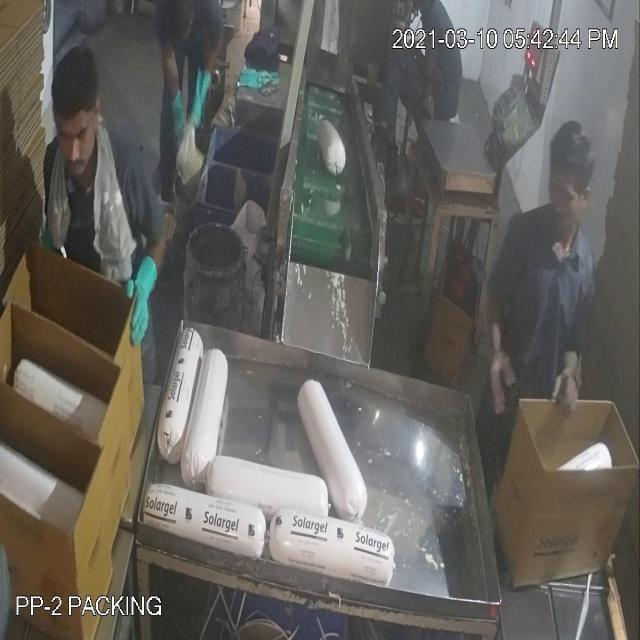Gloves: (38, 104, 567, 373)
